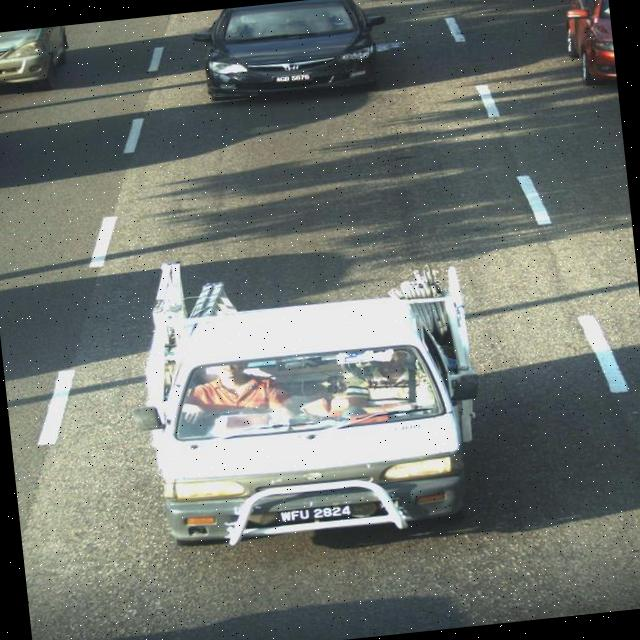License_Plate: (271, 494, 364, 537), (270, 65, 317, 90)
car: (194, 1, 401, 115)
lorry: (113, 218, 507, 577)
